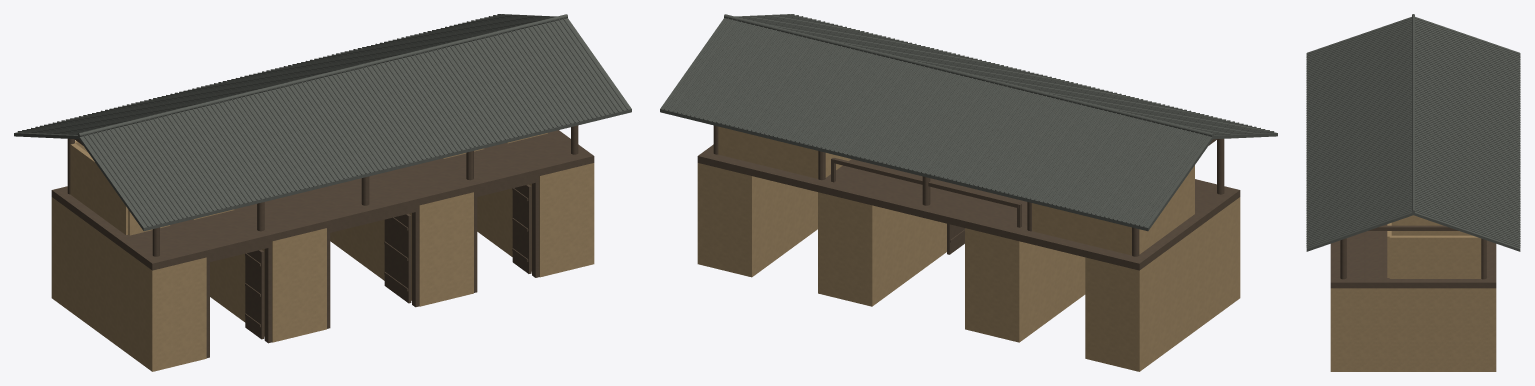
Rendered from yong-gate-body.local-roundtrip.glb.
3 views of the same model, side by side, from view 1: azimuth 30°, elevation 25°; view 2: azimuth 150°, elevation 25°; view 3: azimuth 270°, elevation 25° (orthographic). The views are drawn at different scales.
Parts seen in each view (by area): view 1: yong-Y-static_tile, yong-Y-static_earth, yong-Y-static_timber; view 2: yong-Y-static_tile, yong-Y-static_earth, yong-Y-static_timber; view 3: yong-Y-static_tile, yong-Y-static_earth, yong-Y-static_timber.
Boxes of the visible parts, left/top/right/bottom form: yong-Y-static_tile: left=14, top=14, right=631, bottom=231; yong-Y-static_earth: left=51, top=133, right=594, bottom=371; yong-Y-static_timber: left=51, top=125, right=594, bottom=357; yong-Y-static_tile: left=660, top=14, right=1277, bottom=231; yong-Y-static_earth: left=697, top=126, right=1240, bottom=371; yong-Y-static_timber: left=697, top=125, right=1240, bottom=270; yong-Y-static_tile: left=1306, top=14, right=1520, bottom=251; yong-Y-static_earth: left=1330, top=215, right=1496, bottom=371; yong-Y-static_timber: left=1330, top=224, right=1496, bottom=288.
Size of the model in its own units: 25.2 by 10.23 by 11.62.
3 materials, 3 textured.
